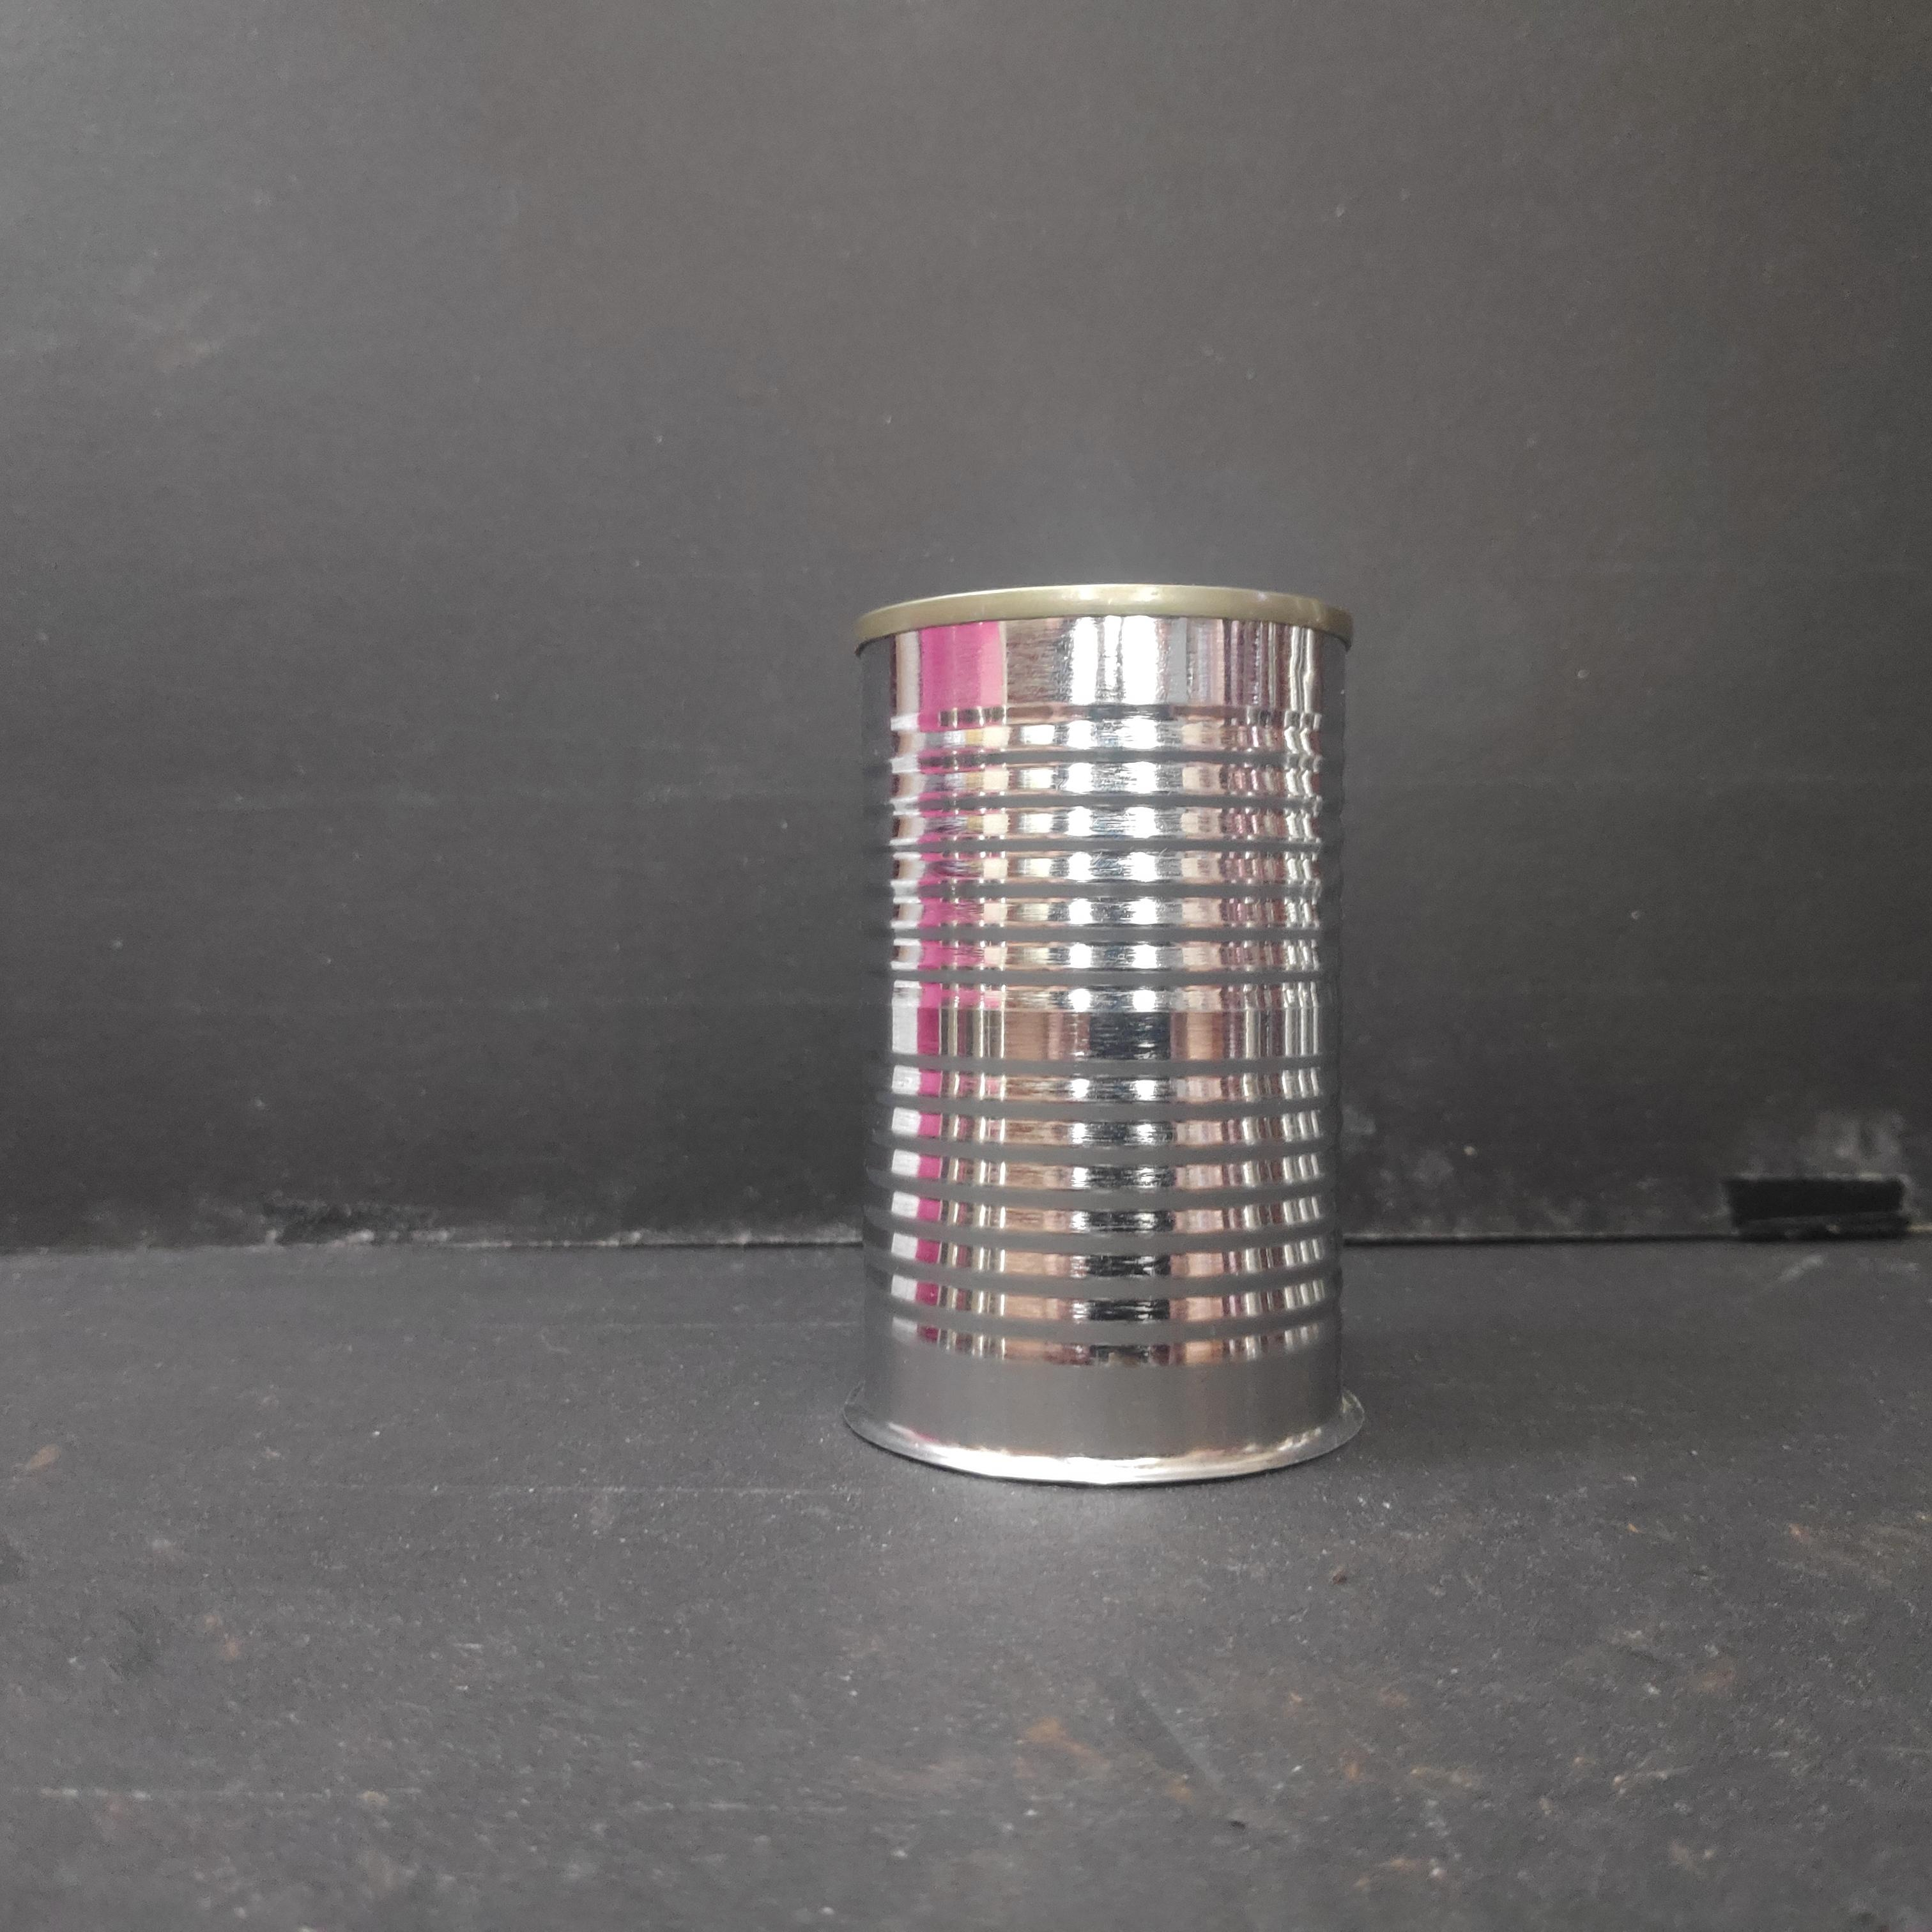No defect: (842, 573, 1369, 1499)
